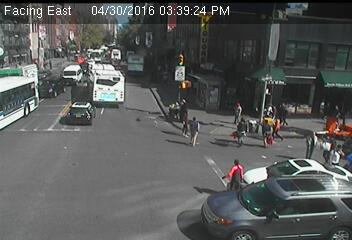neg: (301, 191, 324, 222), (53, 142, 75, 170), (66, 76, 87, 103), (277, 56, 297, 83), (16, 90, 34, 114), (209, 95, 224, 116), (159, 192, 174, 212), (106, 46, 121, 66), (152, 146, 167, 166), (146, 51, 160, 71), (123, 71, 137, 90), (177, 61, 191, 80), (32, 50, 46, 69), (227, 73, 239, 90), (63, 44, 75, 58)
pos: (220, 154, 250, 193), (300, 128, 323, 159), (230, 116, 253, 147), (324, 146, 346, 176), (184, 116, 206, 145), (172, 95, 194, 124), (317, 131, 339, 159), (256, 120, 277, 147), (230, 100, 250, 127), (273, 100, 293, 127), (330, 102, 345, 123), (271, 116, 286, 135)
